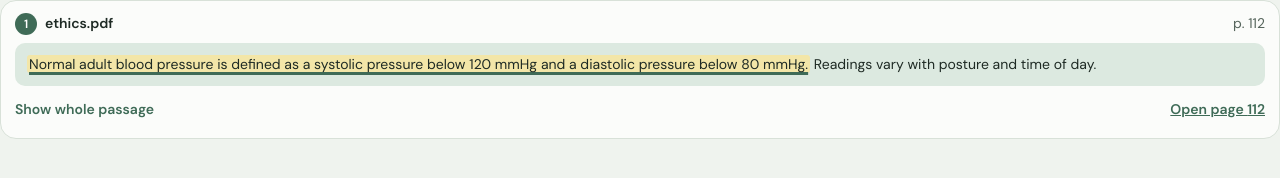
Scenario: SourceCard: evidence (Task 3) › marks every supporting sentence and starts the excerpt at the first
Expected: the text "Normal adult blood pressure is defined" is shown, [29, 55, 808, 73]
Expected: the text "measured in millimetres" is not shown
Click the button "Show whole passage" at (85, 110), box [15, 94, 154, 126]
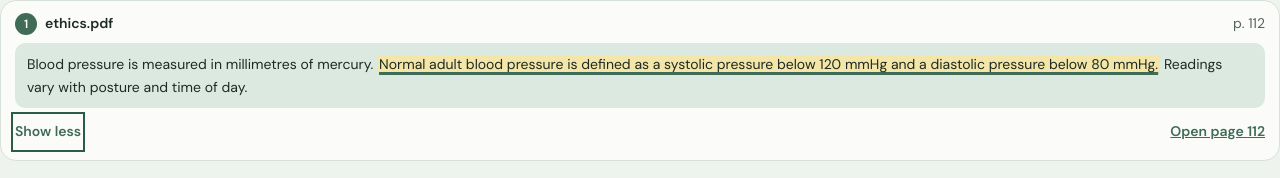
Now the text "Blood pressure is measured in millimetres of mercury." is shown, box [27, 55, 373, 73]
Now the button "Show less" is shown, box [15, 116, 81, 148]
